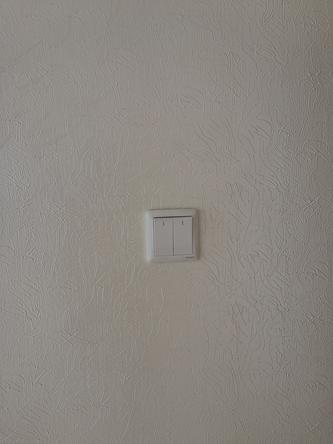switch: (151, 213, 176, 258), (169, 214, 195, 257)
